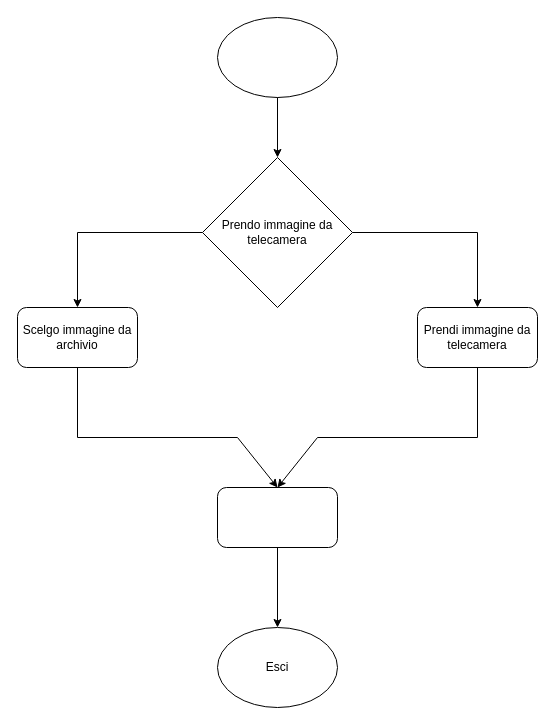
This 555x725 diagram has some shape labels left out. The centre of each missing label's shape, as x and y in pixels:
"Immagine scelta" belongs at (277,517).
"Scelta Immagine" belongs at (277,57).
